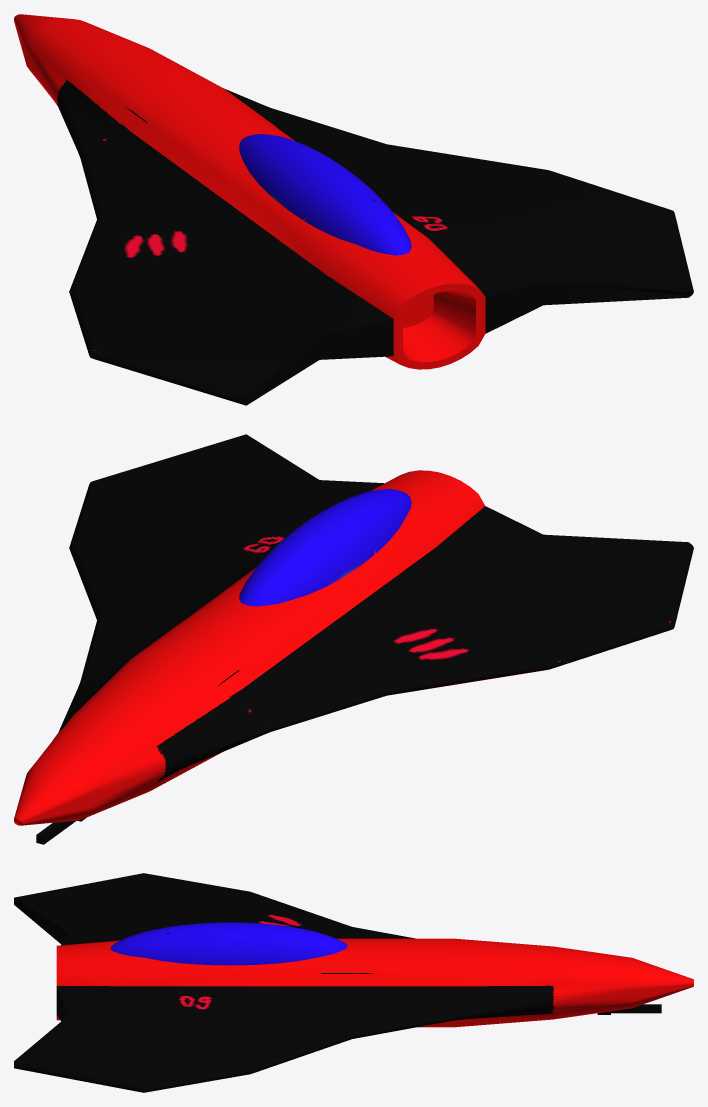
The model's file is raptor.obj.
The picture shows the model from 3 angles, top to bottom: view 1: azimuth 30°, elevation 25°; view 2: azimuth 150°, elevation 25°; view 3: azimuth 270°, elevation 25°; orthographic projection. The views are drawn at different scales.
Visible parts, largest first — view 1: Cylinder.001; view 2: Cylinder.001; view 3: Cylinder.001.
Boxes of the visible parts, <box> form: Cylinder.001: <box>14,14,693,405</box>; Cylinder.001: <box>14,434,693,844</box>; Cylinder.001: <box>14,873,693,1092</box>.
Bounding box in the file's own units: 10.5 × 2.15 × 13.95.
